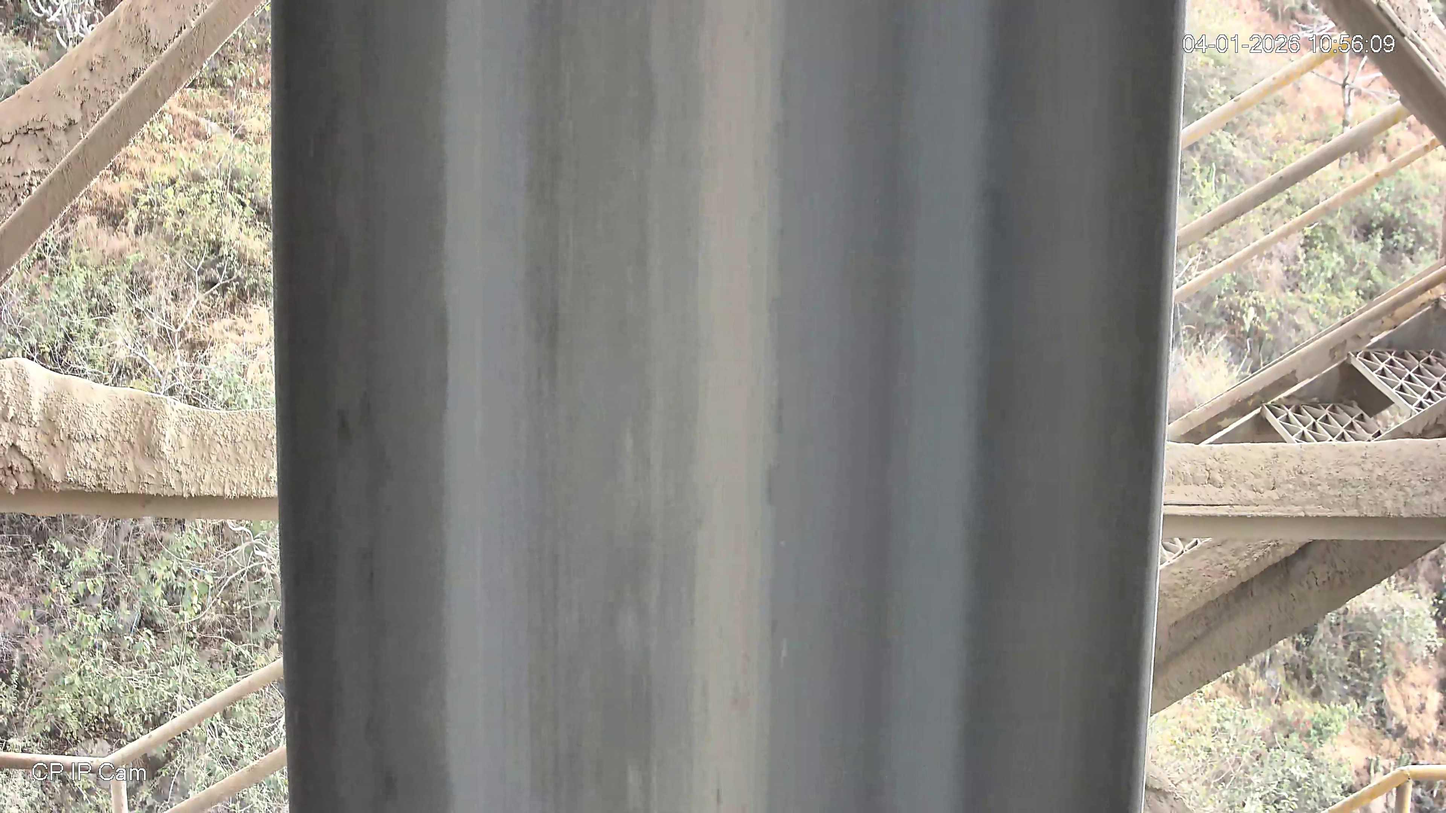belt_roi: (267, 0, 1191, 813)
